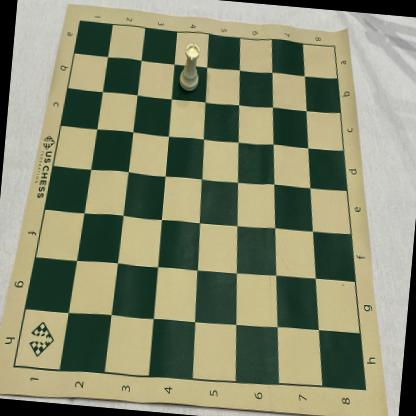rook: (178, 42, 203, 93)
